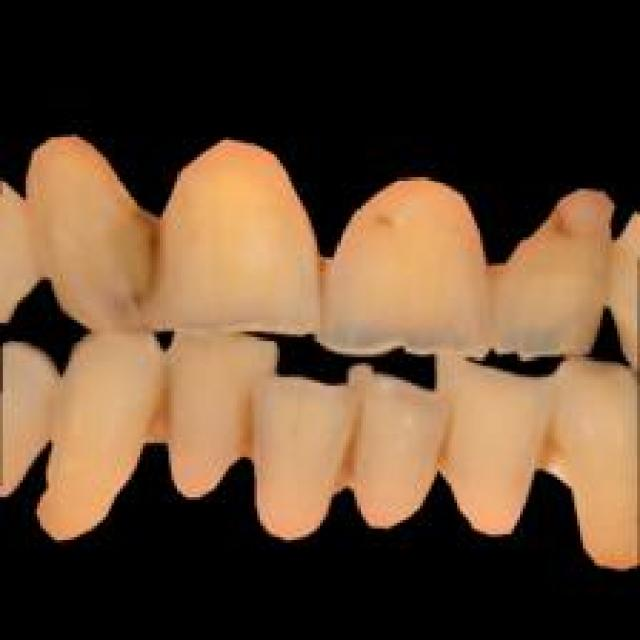cavity: (114, 209, 163, 314), (337, 414, 369, 489), (140, 363, 169, 431), (234, 389, 260, 457), (429, 414, 457, 463), (529, 426, 560, 460), (369, 203, 394, 226)
tooth: (166, 129, 317, 337), (323, 169, 483, 360), (20, 131, 163, 326), (34, 320, 154, 540), (517, 354, 634, 577), (480, 169, 611, 354), (440, 354, 549, 529), (354, 363, 457, 528), (157, 323, 252, 497), (260, 371, 357, 540), (3, 340, 54, 494)
